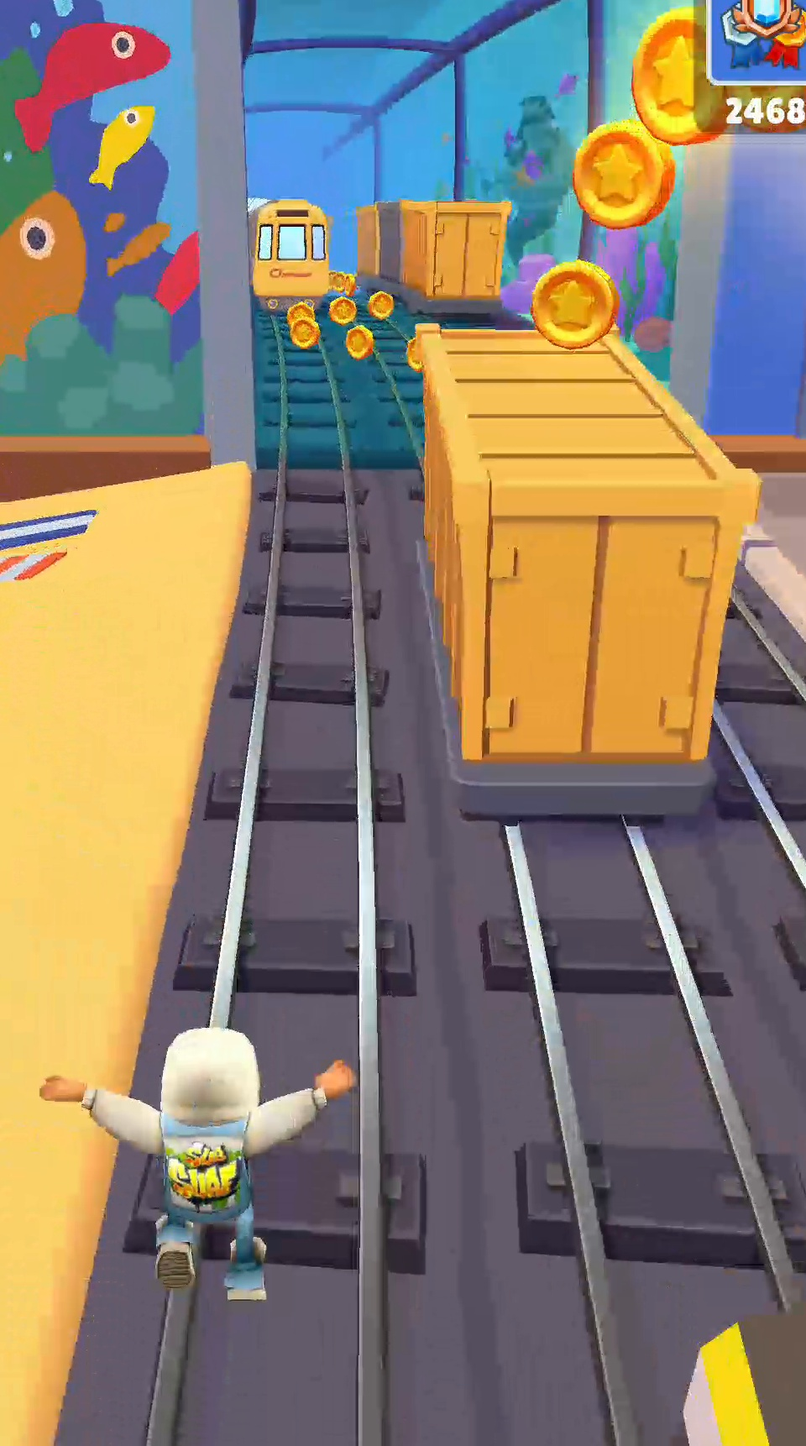train: (410, 263, 759, 820), (401, 202, 510, 301), (573, 122, 673, 222), (249, 200, 336, 311), (357, 202, 400, 290)
